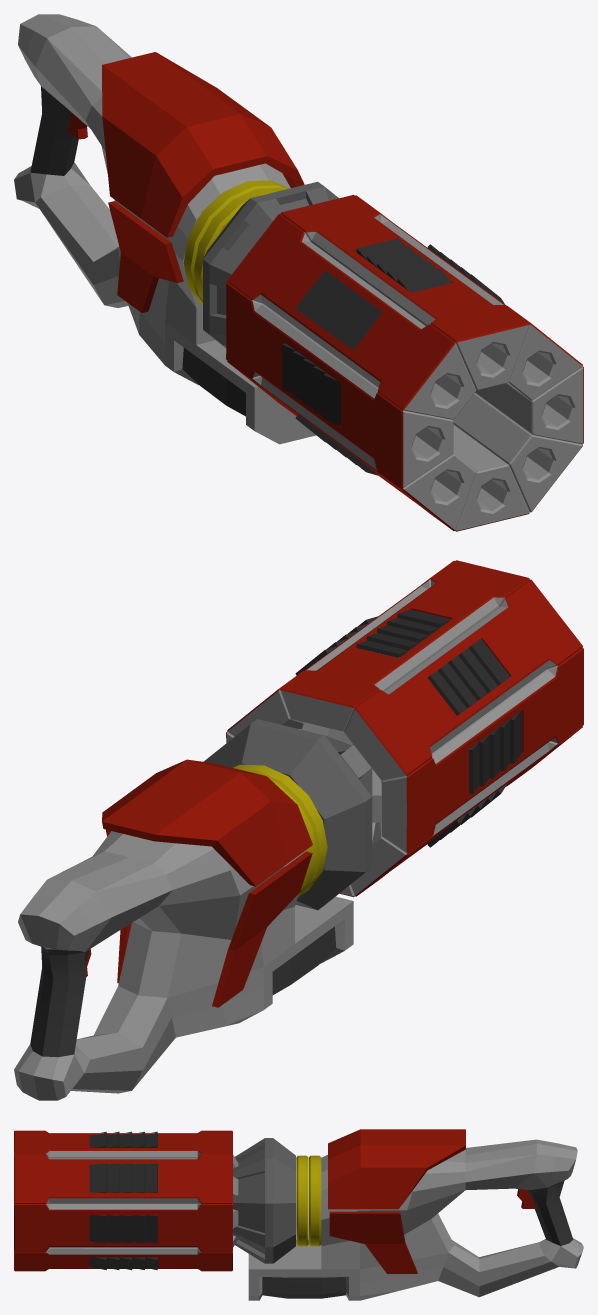
Rendered from RocketLauncher.fbx.
3 renders of one model, top to bottom at view 1: azimuth 30°, elevation 25°; view 2: azimuth 150°, elevation 25°; view 3: azimuth 270°, elevation 25°, orthographic. The views are drawn at different scales.
Parts seen in each view (by area): view 1: pCylinder3 (×8), Base, Armor_1, Slide, Armor_2, pCube1 (×3), Rotator_Back, Rotator_Front, pCube17; view 2: Base, pCylinder3 (×5), Armor_1, Slide, Armor_2, Rotator_Front, pCube1; view 3: pCylinder3 (×4), Base, Armor_1, Slide, Armor_2, pCube1 (×3), Rotator_Back, Rotator_Front, pCube17 (×2), pCube16 (×2), pCube18 (×2), pCube15 (×2) (+1 smaller).
Part boxes in pixels (x1,y1,x2,y2): pCylinder3 (×8): (226, 194, 583, 531); Base: (14, 14, 316, 444); Armor_1: (102, 52, 304, 237); Slide: (203, 181, 338, 347); Armor_2: (108, 201, 183, 312); pCube1 (×3): (323, 268, 451, 426); Rotator_Back: (183, 180, 288, 305); Rotator_Front: (194, 187, 284, 299); pCube17: (305, 277, 345, 323); Base: (14, 831, 353, 1100); pCylinder3 (×5): (227, 560, 583, 896); Armor_1: (102, 759, 312, 886); Slide: (203, 719, 372, 910); Armor_2: (117, 851, 312, 1007); Rotator_Front: (233, 764, 327, 895); pCube1: (468, 639, 510, 685); pCylinder3 (×4): (14, 1130, 238, 1271); Base: (248, 1139, 583, 1300); Armor_1: (328, 1129, 465, 1209); Slide: (233, 1138, 295, 1263); Armor_2: (329, 1211, 417, 1273); pCube1 (×3): (89, 1132, 107, 1243); Rotator_Back: (309, 1155, 321, 1246); Rotator_Front: (296, 1155, 308, 1246); pCube17 (×2): (132, 1163, 145, 1243); pCube16 (×2): (119, 1163, 132, 1243); pCube18 (×2): (145, 1163, 157, 1243); pCube15 (×2): (107, 1163, 119, 1243).
Size of the model in its own units: 1.93 by 2.49 by 8.06.
